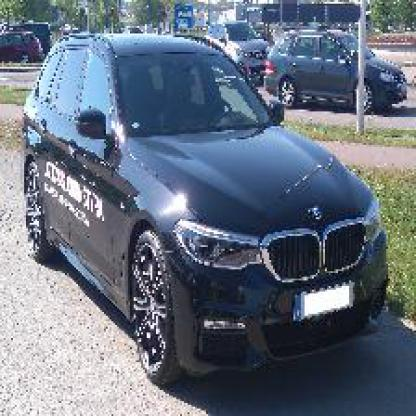not_emergency: (26, 19, 388, 373)
